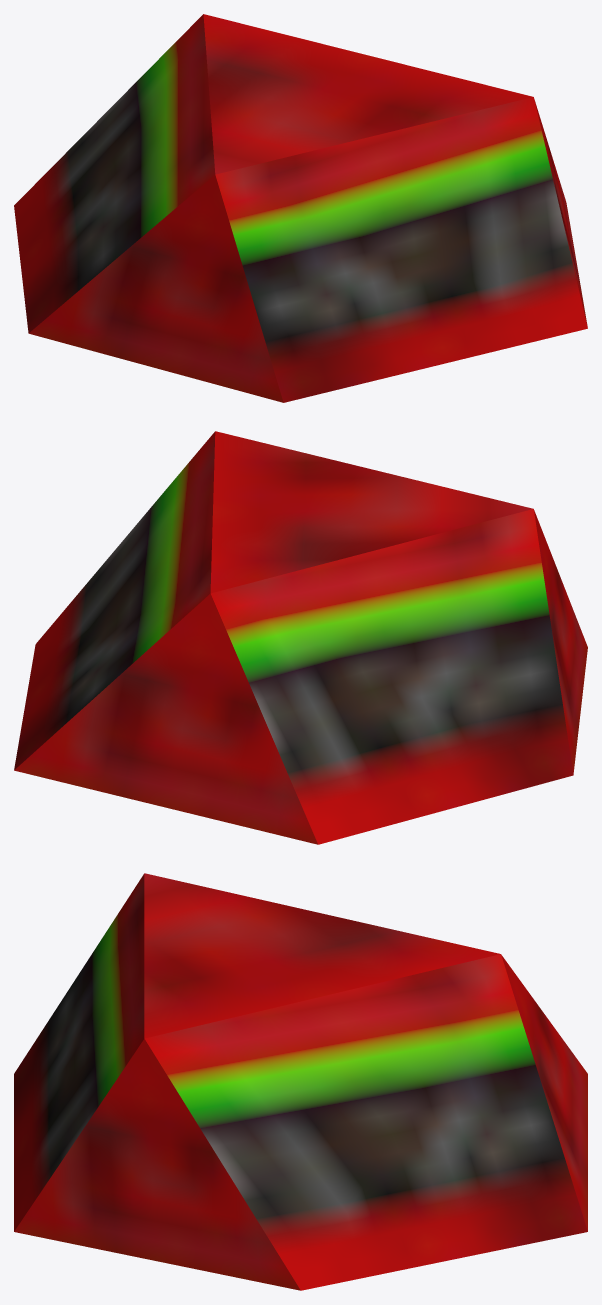
3 views of the same model, one above another, from view 1: azimuth 30°, elevation 25°; view 2: azimuth 150°, elevation 25°; view 3: azimuth 270°, elevation 25° (orthographic). The views are drawn at different scales.
Visible parts, largest first — view 1: root; view 2: root; view 3: root.
Part boxes in pixels (x1,y1,x2,y2): root: (14,14,587,402); root: (14,431,587,844); root: (14,873,587,1290).
Size of the model in its own units: 0.1484 by 0.0488 by 0.1289.
Materials: 1 (1 with a texture image).
